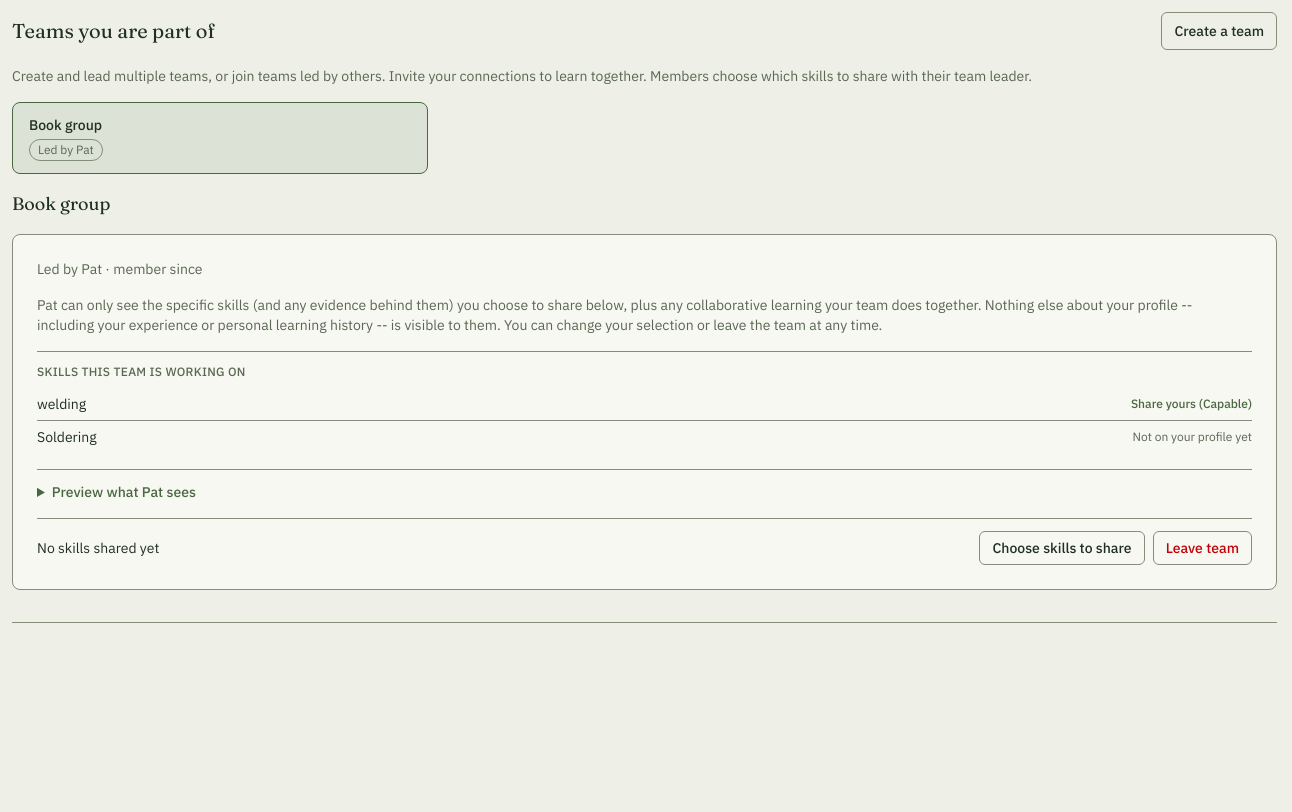
Test: Connections teams › shows a member the team's tracked skills and shares a matching one in one click
Check: the text "Skills this team is working on" is shown, box top-left (37, 364), bottom-right (246, 379)
Check: the text "Not on your profile yet" is shown, box top-left (1132, 429), bottom-right (1252, 445)
Click the button with aria-label "Share Welding with Pat".
click(1191, 404)  # box top-left (1131, 396), bottom-right (1252, 412)
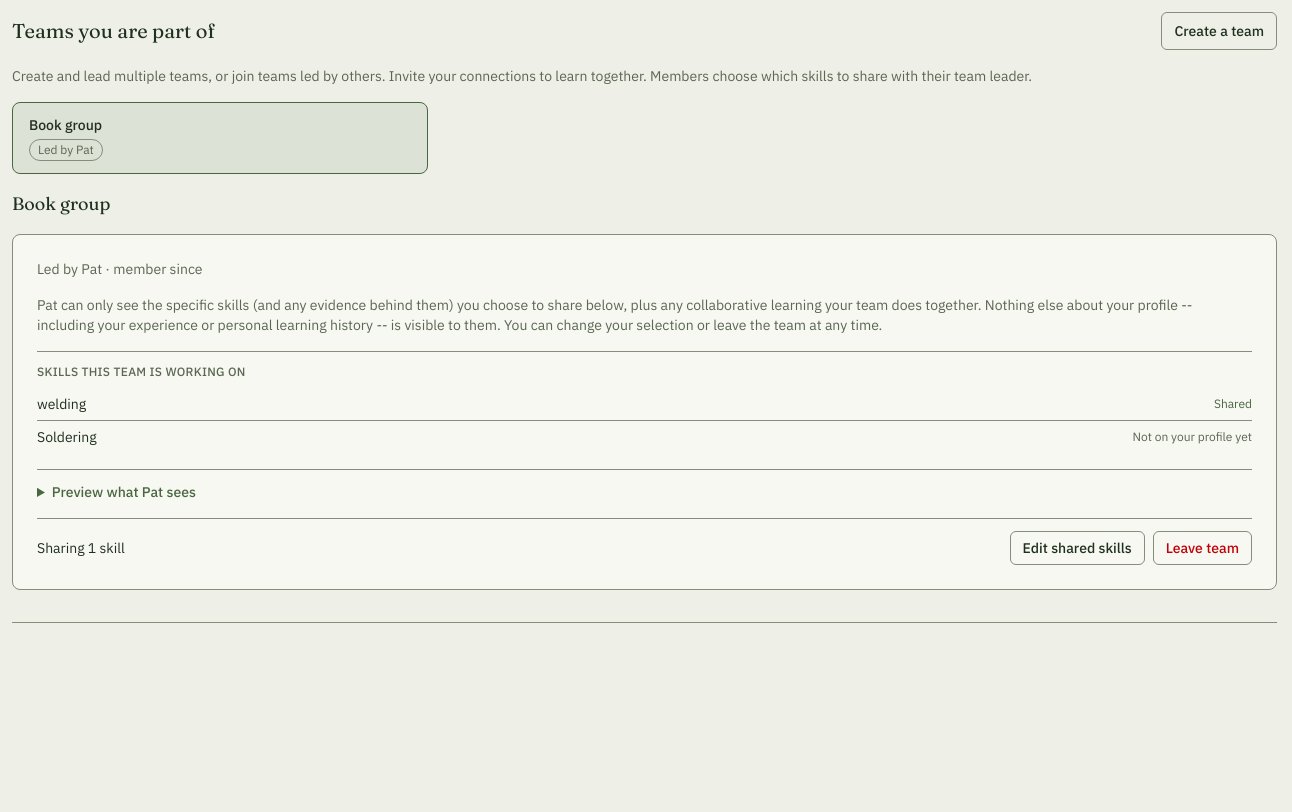
Check: the text "Shared" is shown, box top-left (1214, 396), bottom-right (1252, 412)
